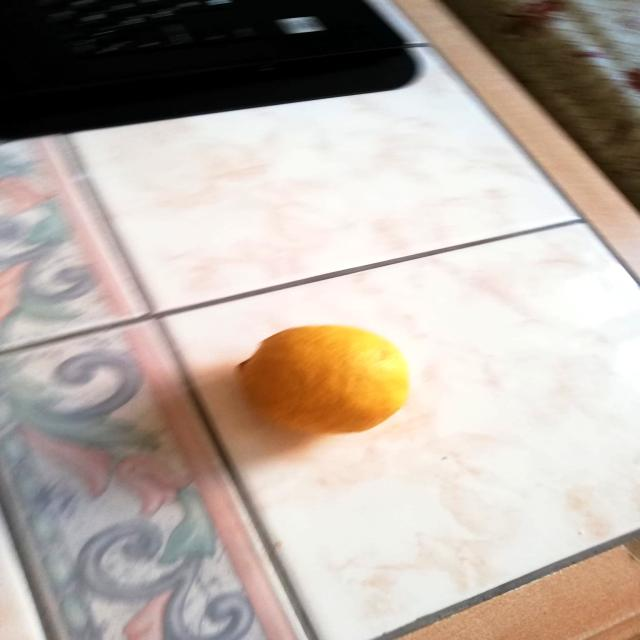lemon: (225, 318, 415, 437)
